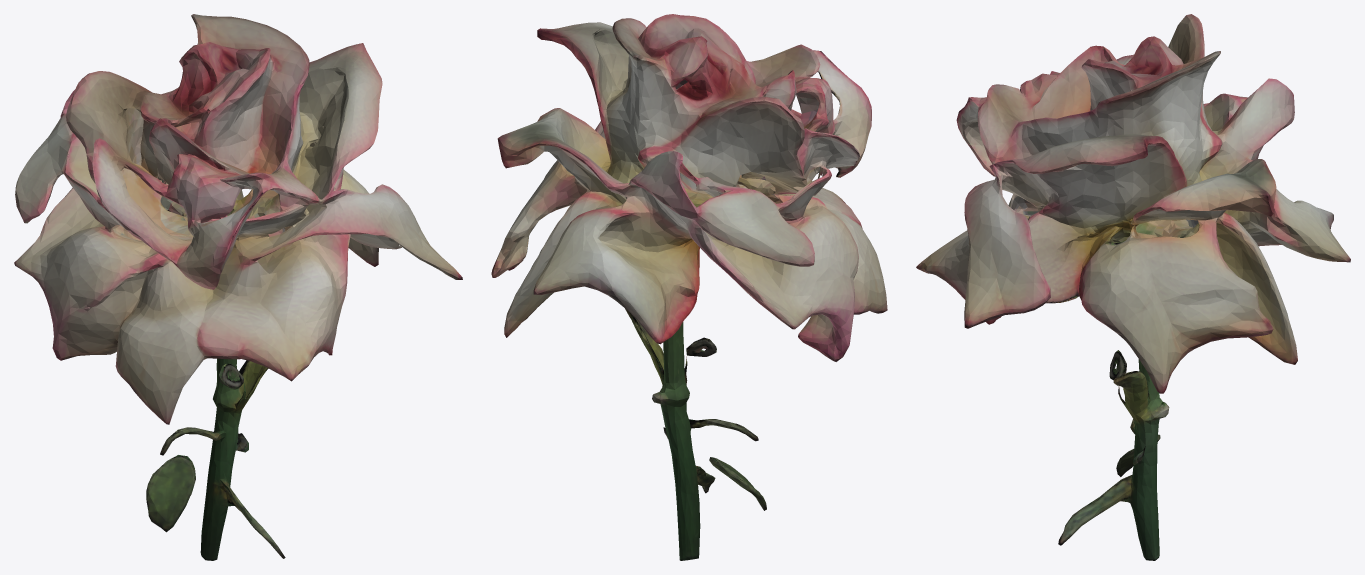
3 views of the same model, side by side, from view 1: azimuth 30°, elevation 25°; view 2: azimuth 150°, elevation 25°; view 3: azimuth 270°, elevation 25° (orthographic). The views are drawn at different scales.
Parts seen in each view (by area): view 1: world; view 2: world; view 3: world.
Boxes of the visible parts, x1,y1,x2,y2 form: world: [14, 14, 462, 560]; world: [491, 14, 887, 560]; world: [916, 14, 1350, 560].
Bounding box in the file's own units: 0.6037 × 0.9001 × 0.6877.
Materials: 1 (1 with a texture image).
